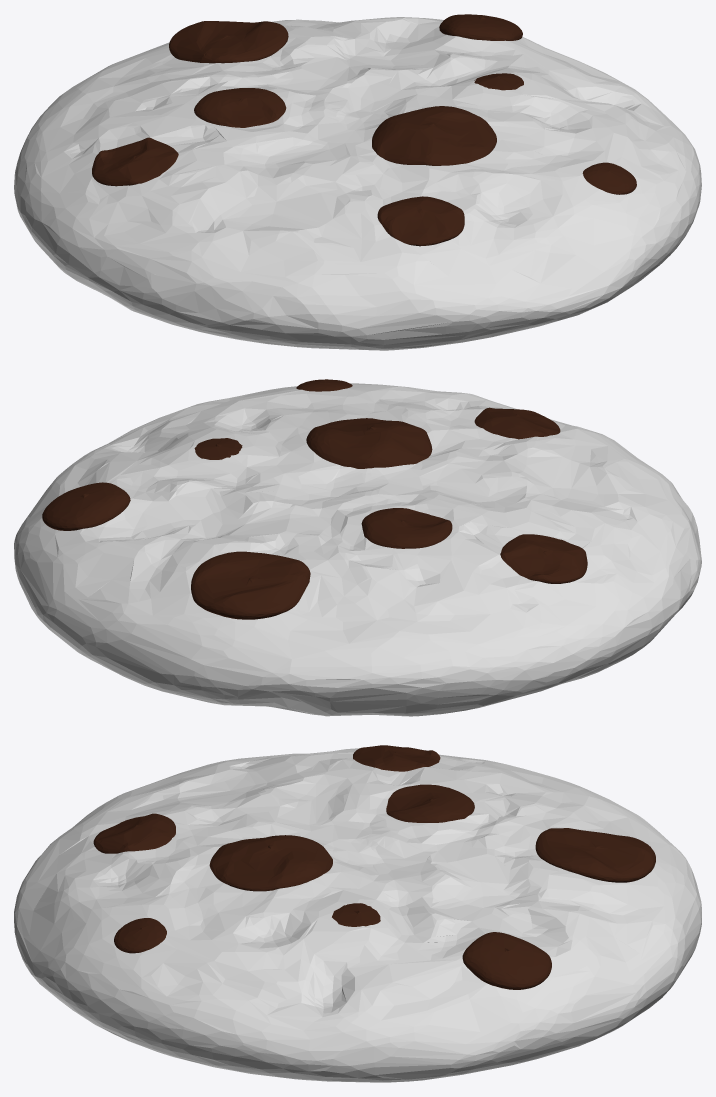
Rendered from cookie.glb.
3 views of the same model, one above another, from view 1: azimuth 30°, elevation 25°; view 2: azimuth 150°, elevation 25°; view 3: azimuth 270°, elevation 25° (orthographic).
Visible parts, largest first — view 1: Cookie; view 2: Cookie; view 3: Cookie.
Part boxes in pixels (<box>): Cookie: <box>14,14,701,350</box>; Cookie: <box>14,379,701,716</box>; Cookie: <box>14,745,701,1082</box>.
Size of the model in its own units: 3.45 by 0.7315 by 3.46.
